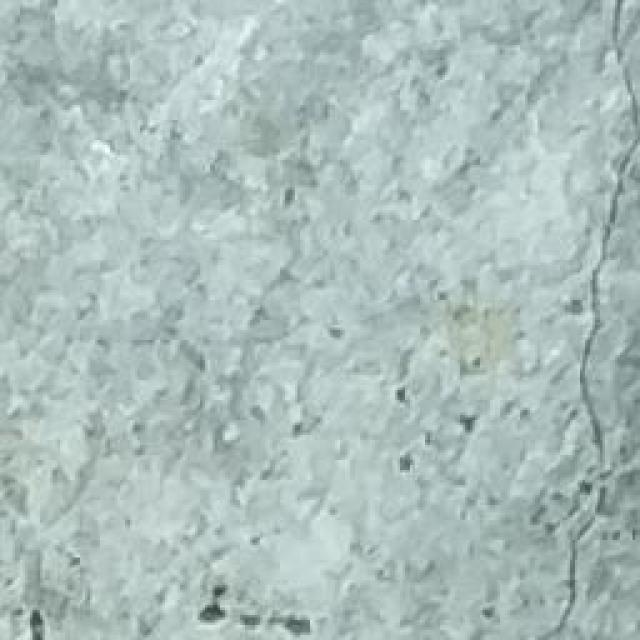Longitudinal: (547, 0, 640, 640)
